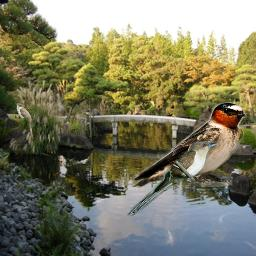Cuckoo: (126, 140, 219, 219), (14, 102, 34, 140)
Swallow: (131, 101, 247, 187)
